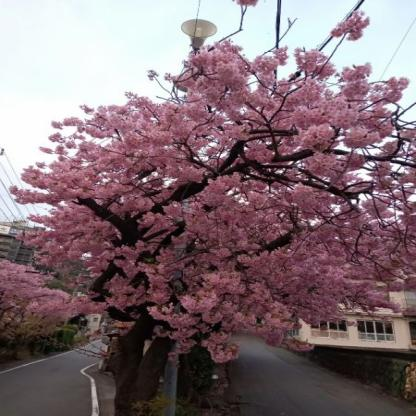KawazuSakura: (7, 1, 415, 367)
